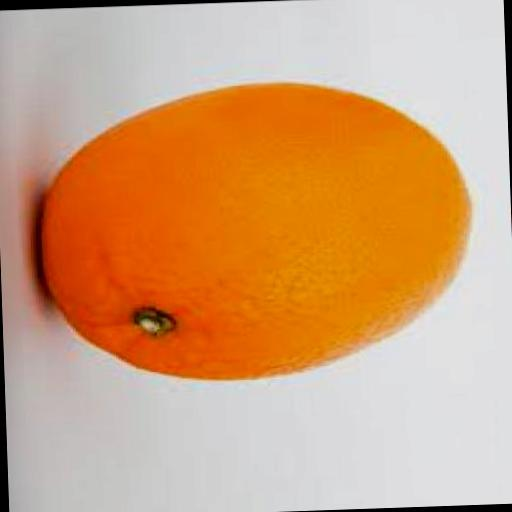biodegradable: (34, 70, 486, 384)
